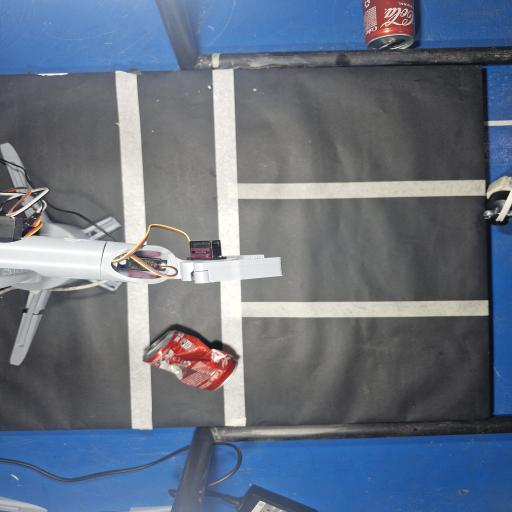lata_defectuoso: (143, 330, 236, 390)
